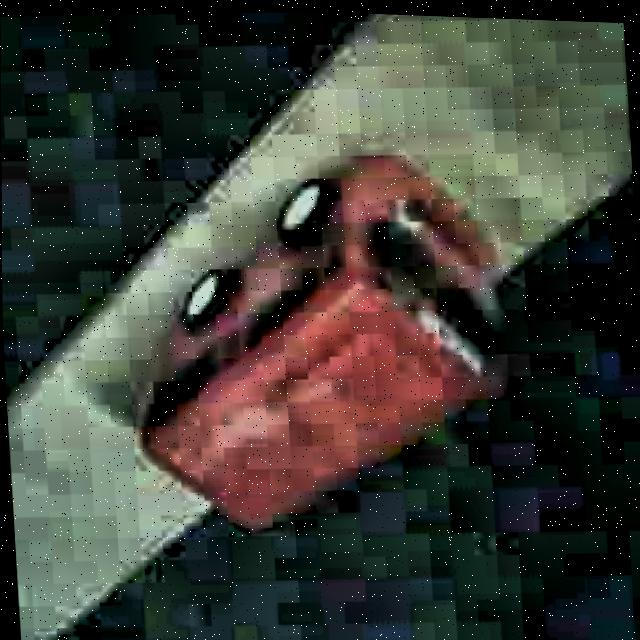bus: (116, 132, 513, 548)
